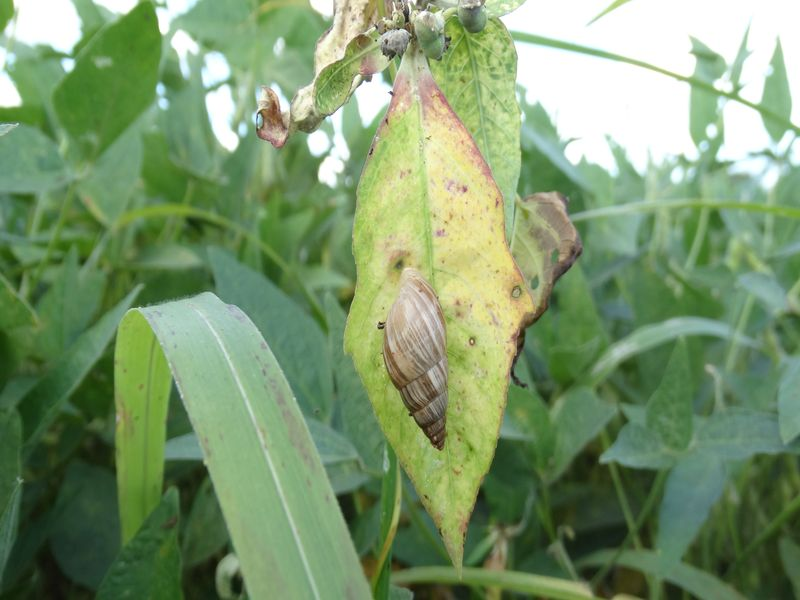Gastropoda: (358, 262, 477, 456)
